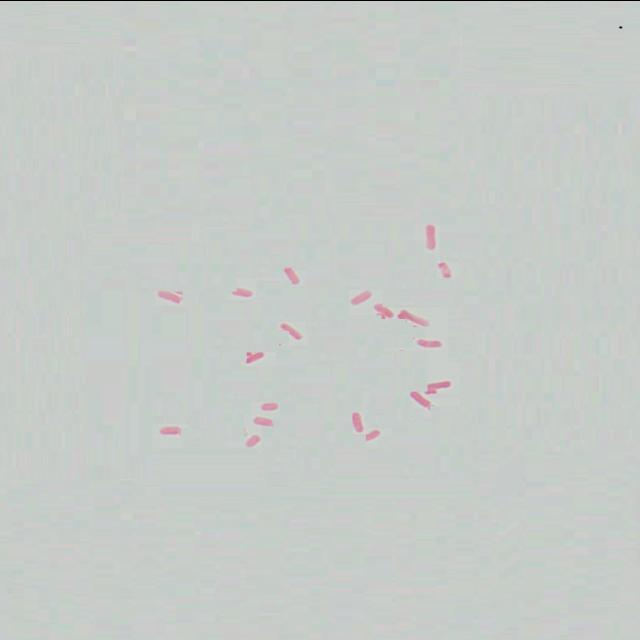E-coli: (406, 385, 436, 415), (396, 310, 432, 328), (344, 408, 366, 430), (348, 287, 376, 303), (242, 349, 269, 365), (422, 224, 440, 248), (153, 424, 183, 438), (279, 321, 301, 340), (283, 264, 303, 283), (156, 289, 182, 303), (246, 415, 278, 426), (416, 336, 444, 348), (427, 380, 455, 392), (254, 400, 281, 412), (436, 262, 454, 280), (229, 286, 255, 298), (364, 426, 384, 440), (241, 435, 263, 447), (376, 305, 394, 319)
